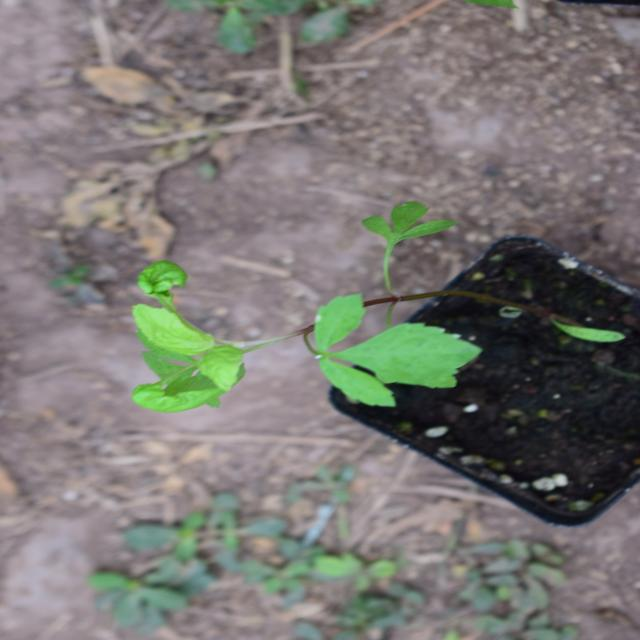Bidens pilosa: (193, 107, 430, 465)
